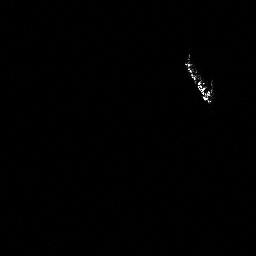ship: (182, 50, 218, 107)
